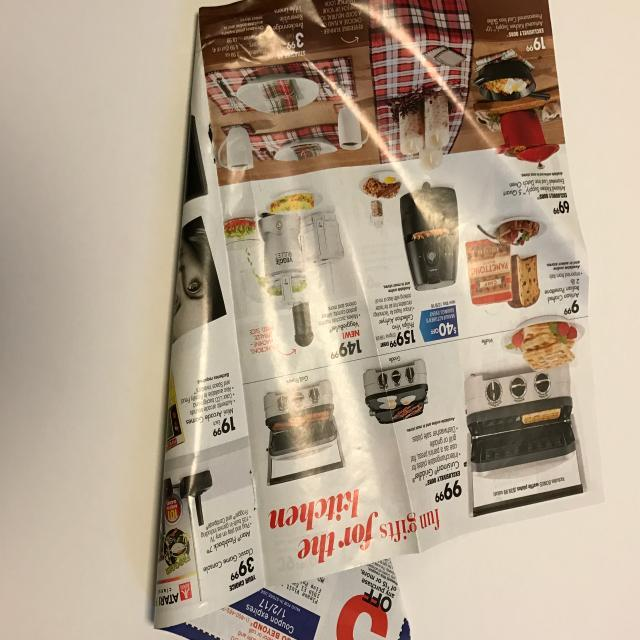paper: (148, 1, 595, 640)
